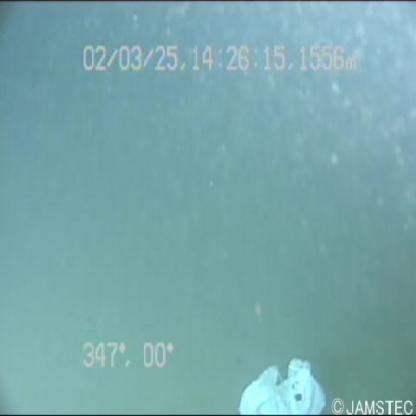Rác: (229, 348, 329, 416)
